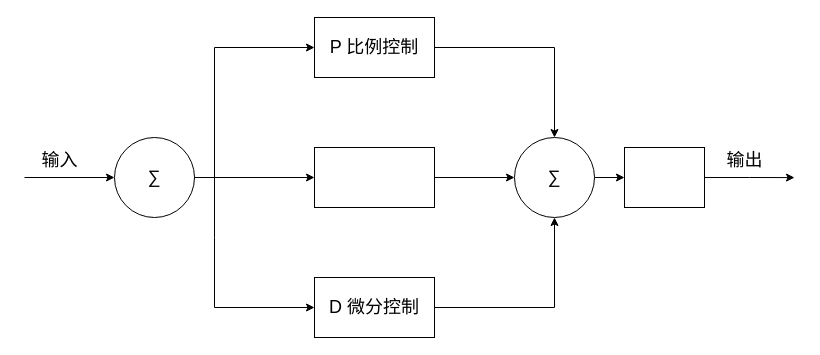
This 820x355 diagram has some shape labels left out. Here are the shapes that lost their labels. From the top down, the box of each, then its label:
(314, 146, 434, 208): I 积分控制
(624, 146, 704, 208): 执行
